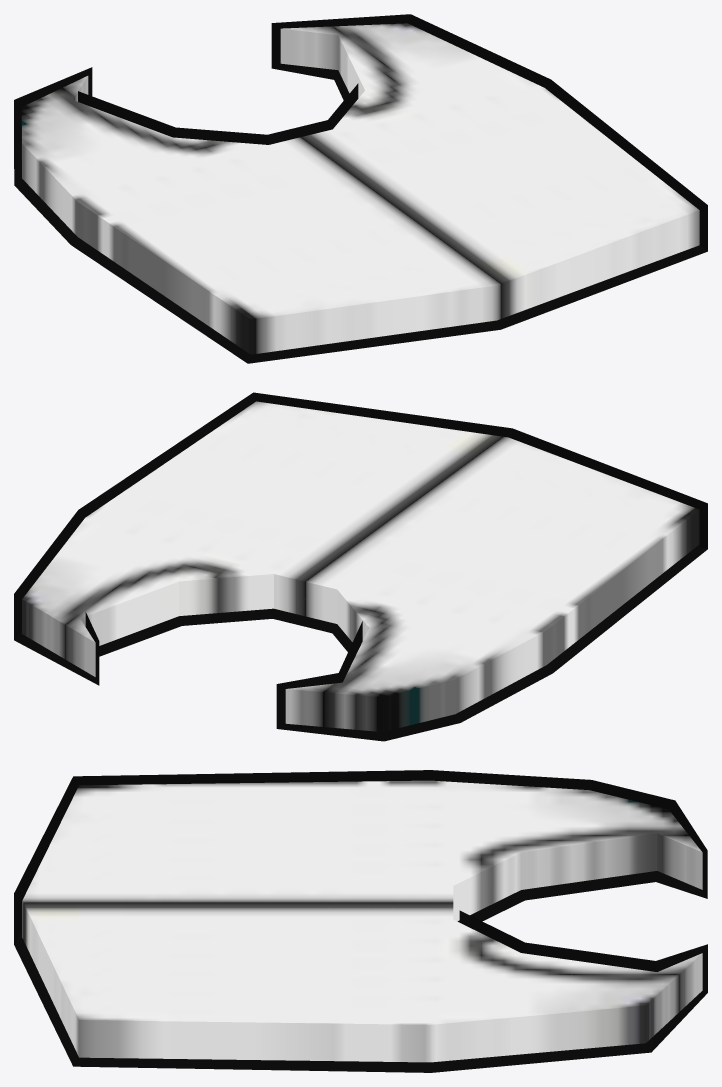
Rendered from Item_Apparel_Parka_Things_Pawn_Humanlike_Apparel_Parka_Parka_Male.glb.
3 views of the same model, one above another, from view 1: azimuth 30°, elevation 25°; view 2: azimuth 150°, elevation 25°; view 3: azimuth 270°, elevation 25° (orthographic). The views are drawn at different scales.
Parts seen in each view (by area): view 1: Body, Outline; view 2: Body, Outline; view 3: Body, Outline.
Part boxes in pixels (box(x1,y1,x2,y2)): Body: box(21, 23, 699, 354); Outline: box(14, 14, 707, 363); Body: box(22, 401, 699, 731); Outline: box(14, 392, 707, 741); Body: box(22, 780, 702, 1062); Outline: box(14, 770, 707, 1072).
Size of the model in its own units: 0.4098 by 0.0418 by 0.4783.
Materials: 2 (1 with a texture image).
